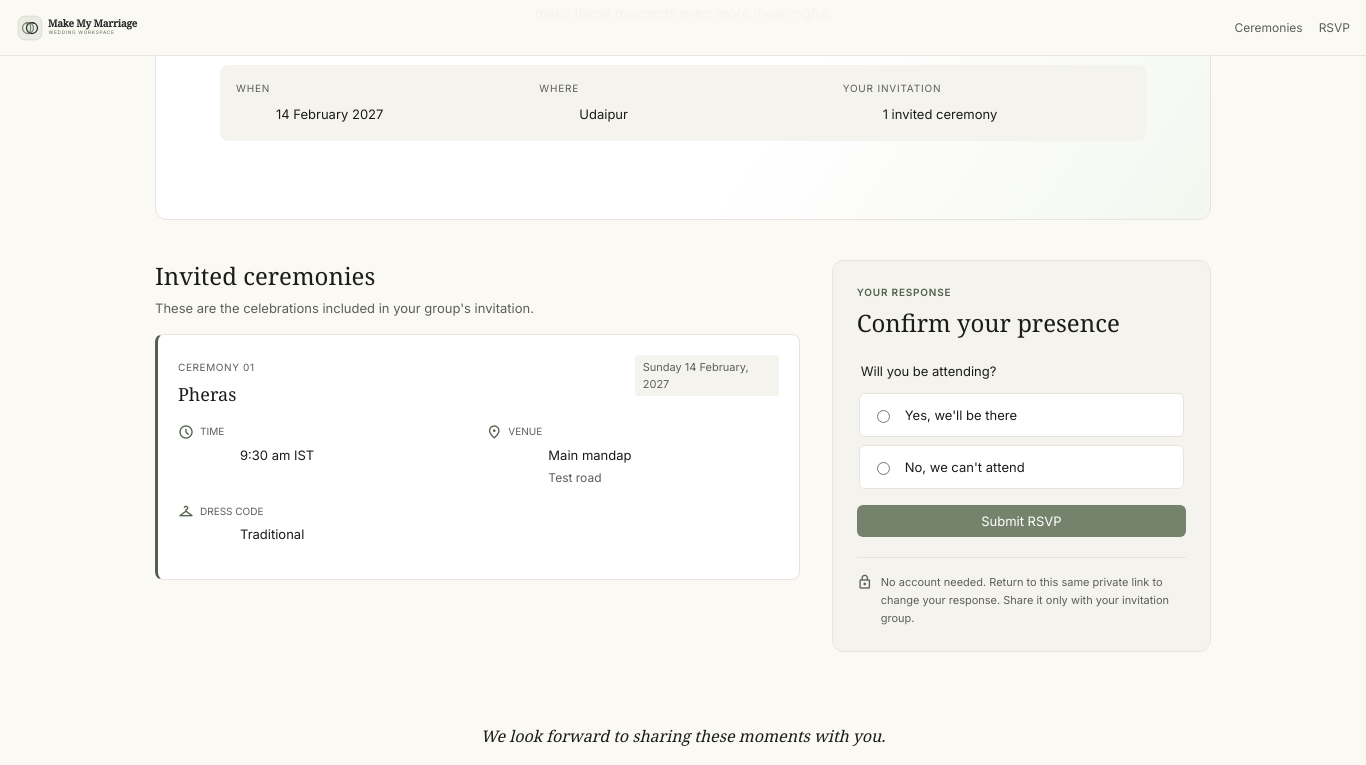
Test: public invitation and RSVP › rejects party-size overflow before sending
(page scrolled)
Click the radio button labelled "Yes, we'll be there": (883, 417) [877,410,890,423]
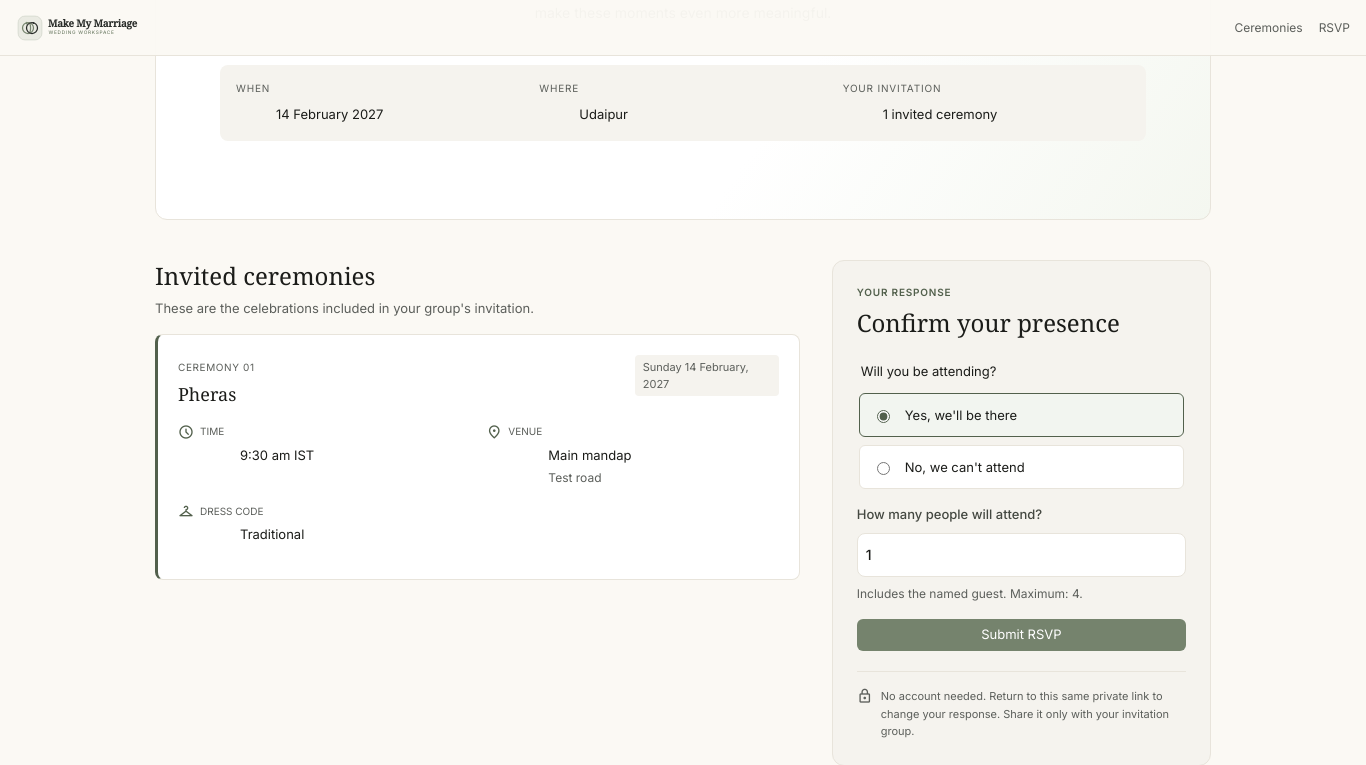
Replace the text in the number field with "5": (1021, 555) [857,533,1186,577]
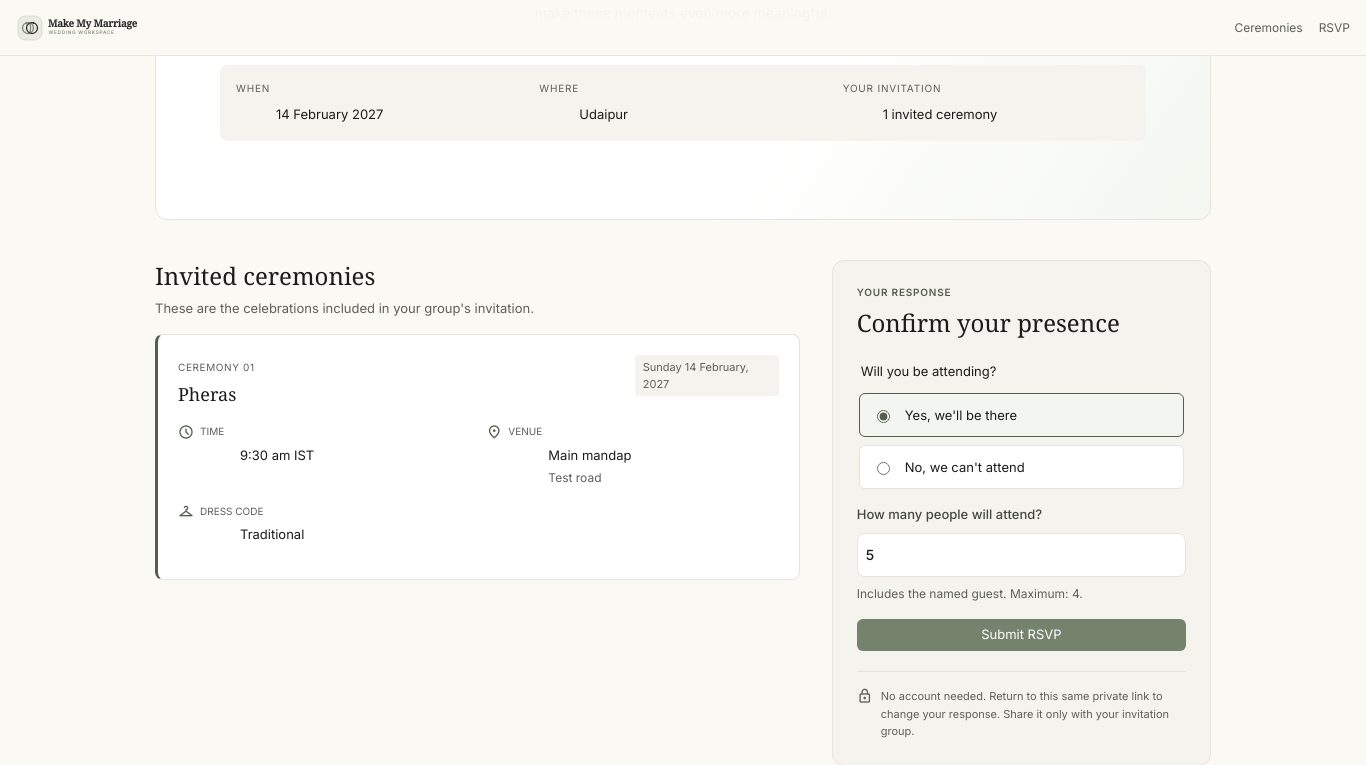
Click the button "Submit RSVP": (1021, 635) [857,619,1186,651]
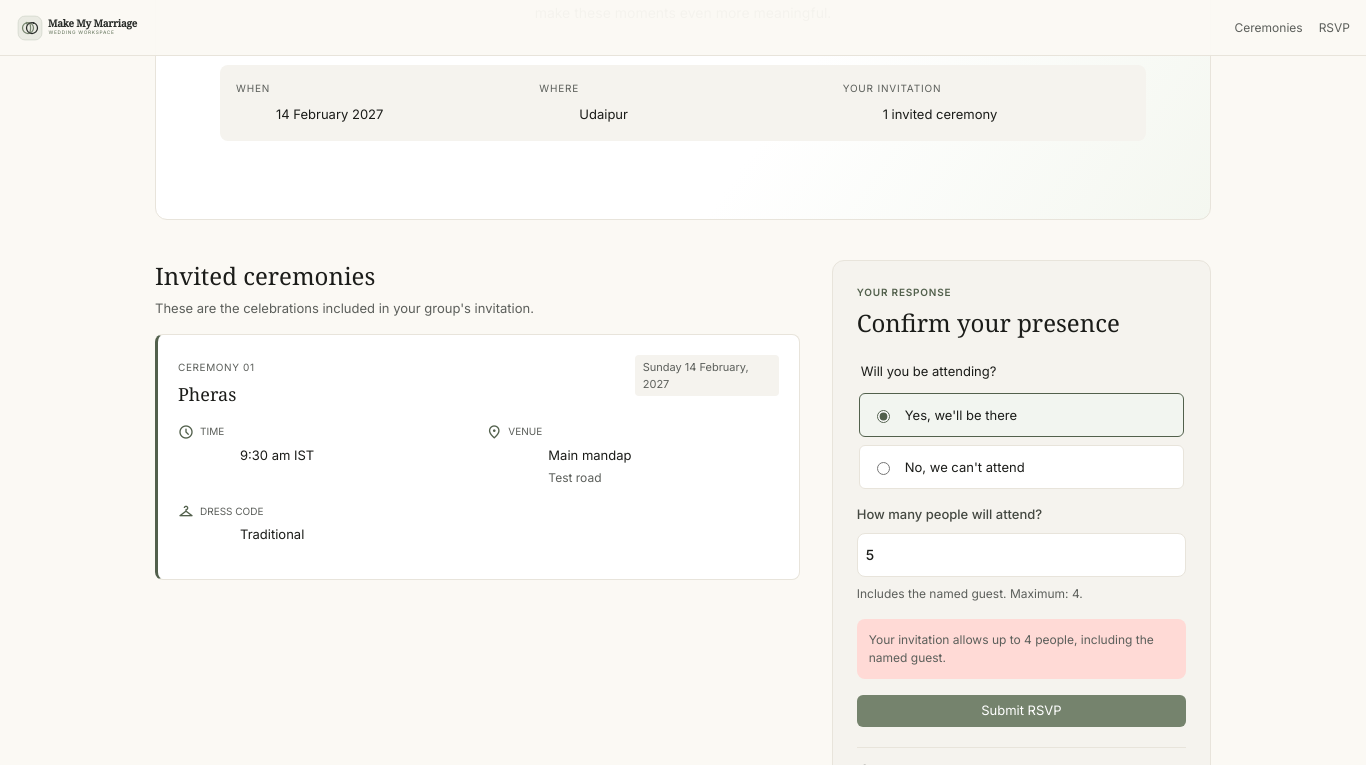
Result: the message shows "up to 4" at [869,632,1154,665]
